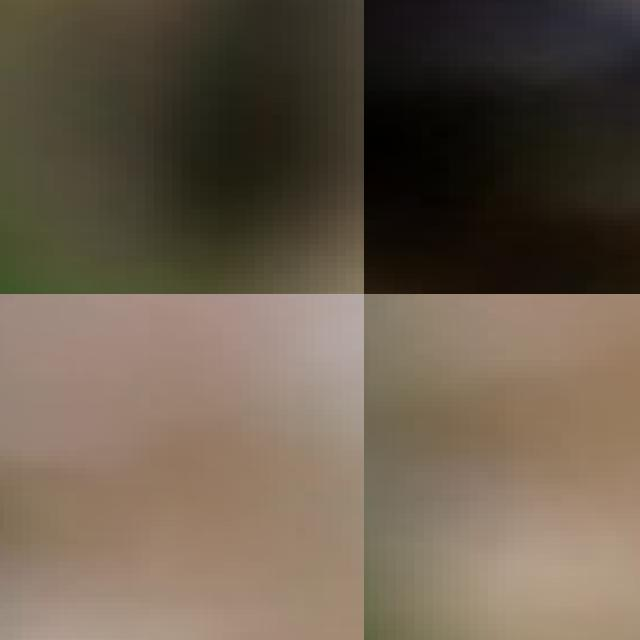fish: (0, 0, 364, 294), (364, 0, 640, 294)
